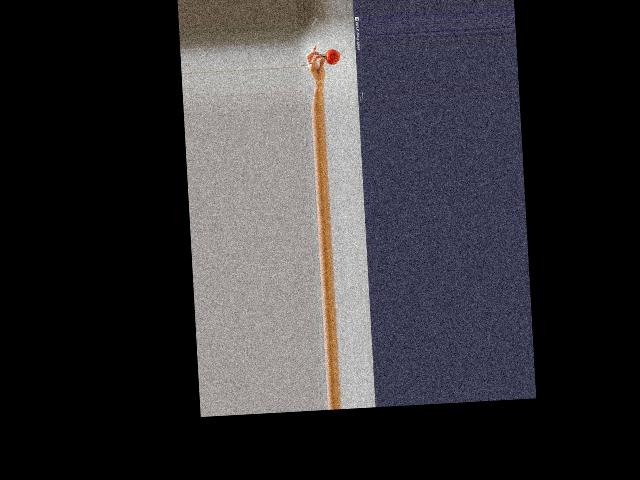tomato: (325, 49, 341, 65)
